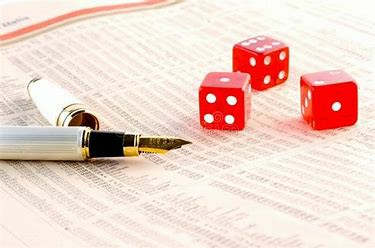pen: (1, 119, 190, 177)
